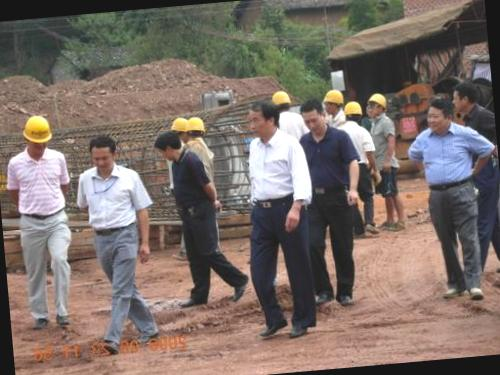no_helmet: (447, 73, 491, 122), (245, 96, 283, 141), (85, 130, 121, 173), (152, 128, 184, 168), (300, 97, 330, 137), (425, 96, 454, 132)
